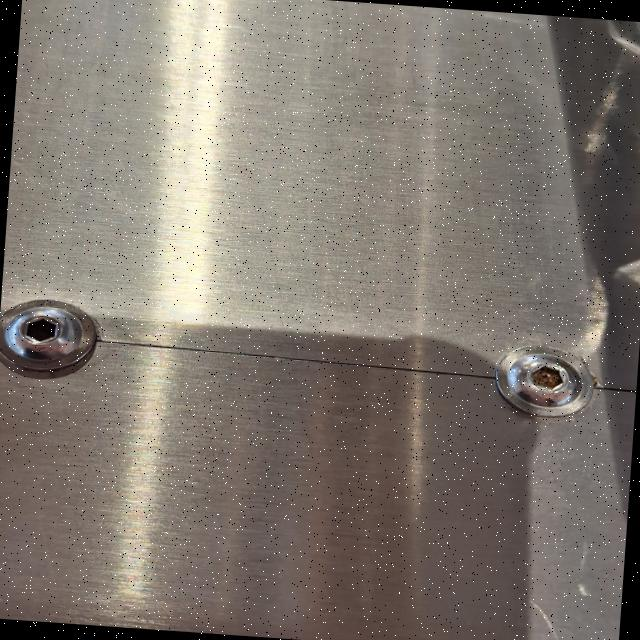Hex Socket Allen: (472, 332, 612, 430), (0, 292, 113, 383)
